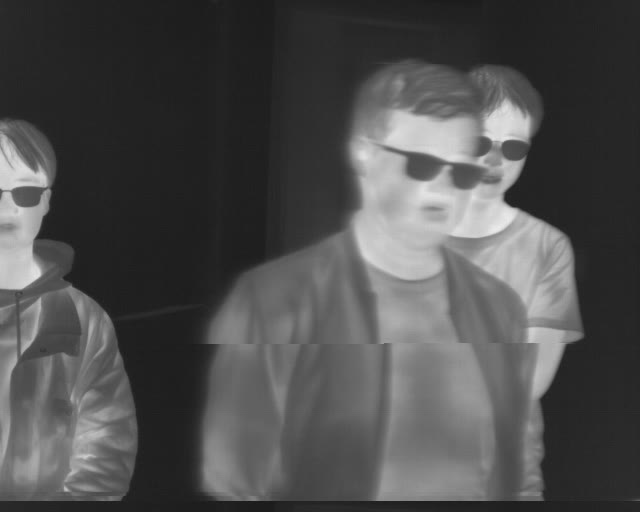face: (348, 56, 477, 248), (468, 61, 545, 197), (1, 116, 57, 251)
